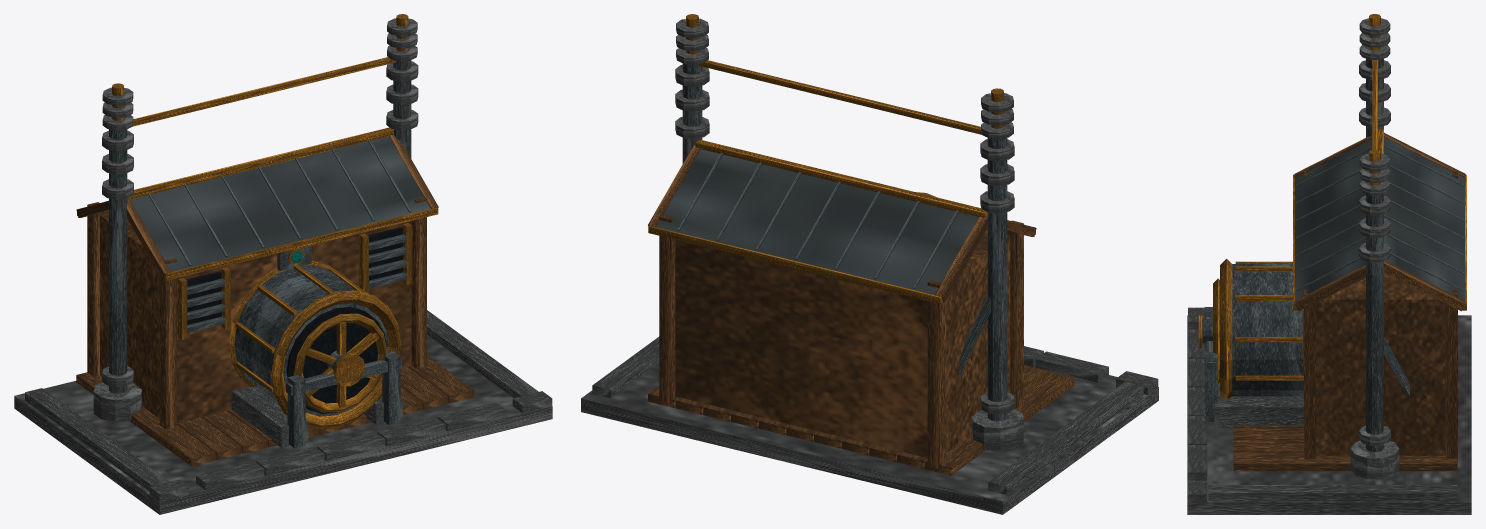
The model's file is sub-hall-dynamo-house.glb.
3 views of the same model, side by side, from view 1: azimuth 30°, elevation 25°; view 2: azimuth 150°, elevation 25°; view 3: azimuth 270°, elevation 25° (orthographic). The views are drawn at different scales.
Parts seen in each view (by area): view 1: sub-hall-dynamo-house; view 2: sub-hall-dynamo-house; view 3: sub-hall-dynamo-house.
Boxes of the visible parts, bbox=[...] form: sub-hall-dynamo-house: bbox=[14, 14, 552, 514]; sub-hall-dynamo-house: bbox=[581, 14, 1158, 514]; sub-hall-dynamo-house: bbox=[1187, 14, 1471, 514].
Size of the model in its own units: 7.8 by 6.55 by 5.
1 material, 1 textured.
